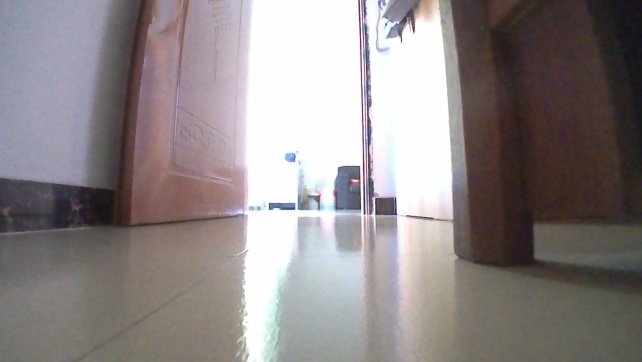door_anno: (108, 0, 253, 230)
sofa1: (330, 162, 360, 209)
